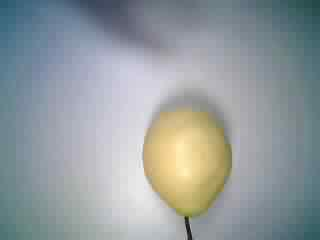pear: (128, 98, 243, 240)
